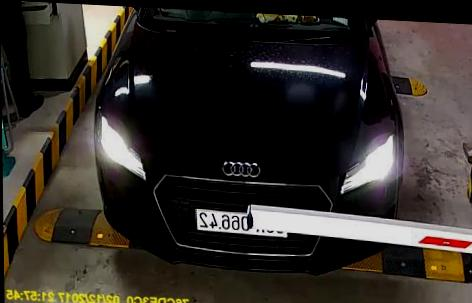License_Plate: (193, 207, 288, 238)
